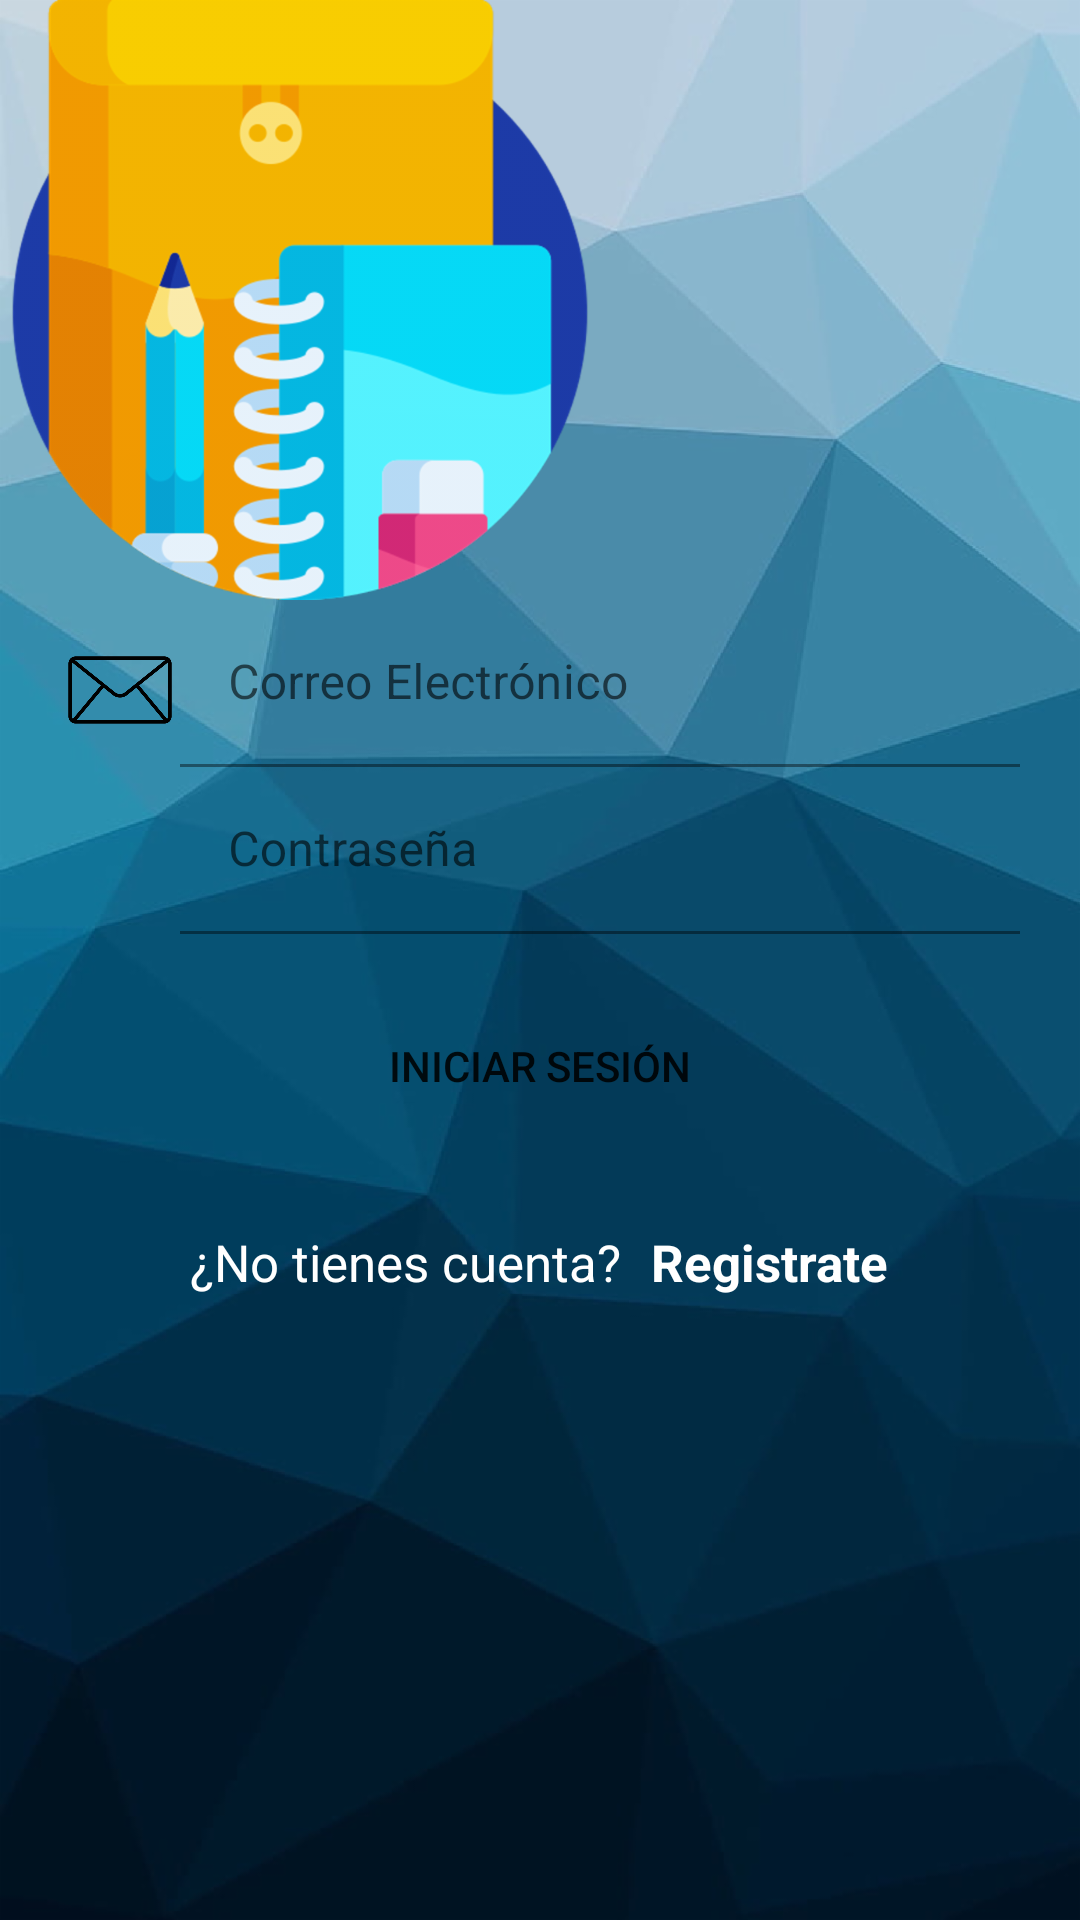

Icon click points for this 1080w x 1920h phone screenshot, format point (x, y):
correo: point (120, 690)
